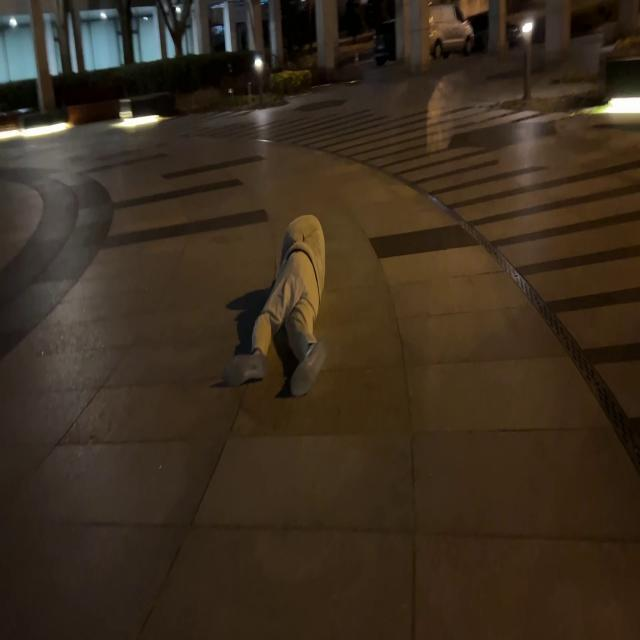Fall: (224, 215, 327, 397)
